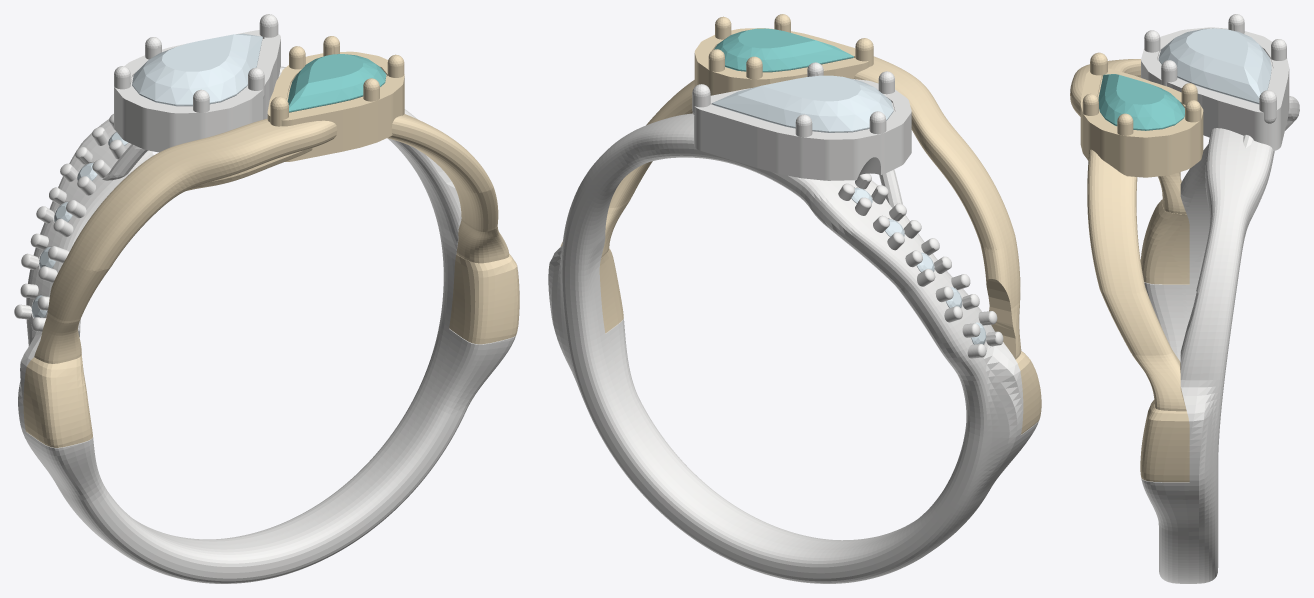
File: Assembly.glb
3 views of the same model, side by side, from view 1: azimuth 30°, elevation 25°; view 2: azimuth 150°, elevation 25°; view 3: azimuth 270°, elevation 25° (orthographic). The views are drawn at different scales.
Visible parts, largest first — view 1: White, Champagne, PearWhite, PearTeal; view 2: White, Champagne, PearWhite, PearTeal; view 3: White, Champagne, PearWhite, PearTeal.
Boxes of the visible parts, x1,y1,x2,y2 form: White: [14, 14, 515, 583]; Champagne: [23, 36, 519, 447]; PearWhite: [132, 33, 262, 106]; PearTeal: [287, 54, 386, 112]; White: [548, 62, 1038, 583]; Champagne: [560, 14, 1041, 434]; PearWhite: [712, 75, 893, 132]; PearTeal: [714, 28, 853, 72]; White: [1141, 14, 1299, 583]; Champagne: [1070, 52, 1203, 482]; PearWhite: [1158, 28, 1271, 104]; PearTeal: [1098, 74, 1184, 130].
Size of the model in its own units: 0.0214 by 0.022 by 0.00929.
